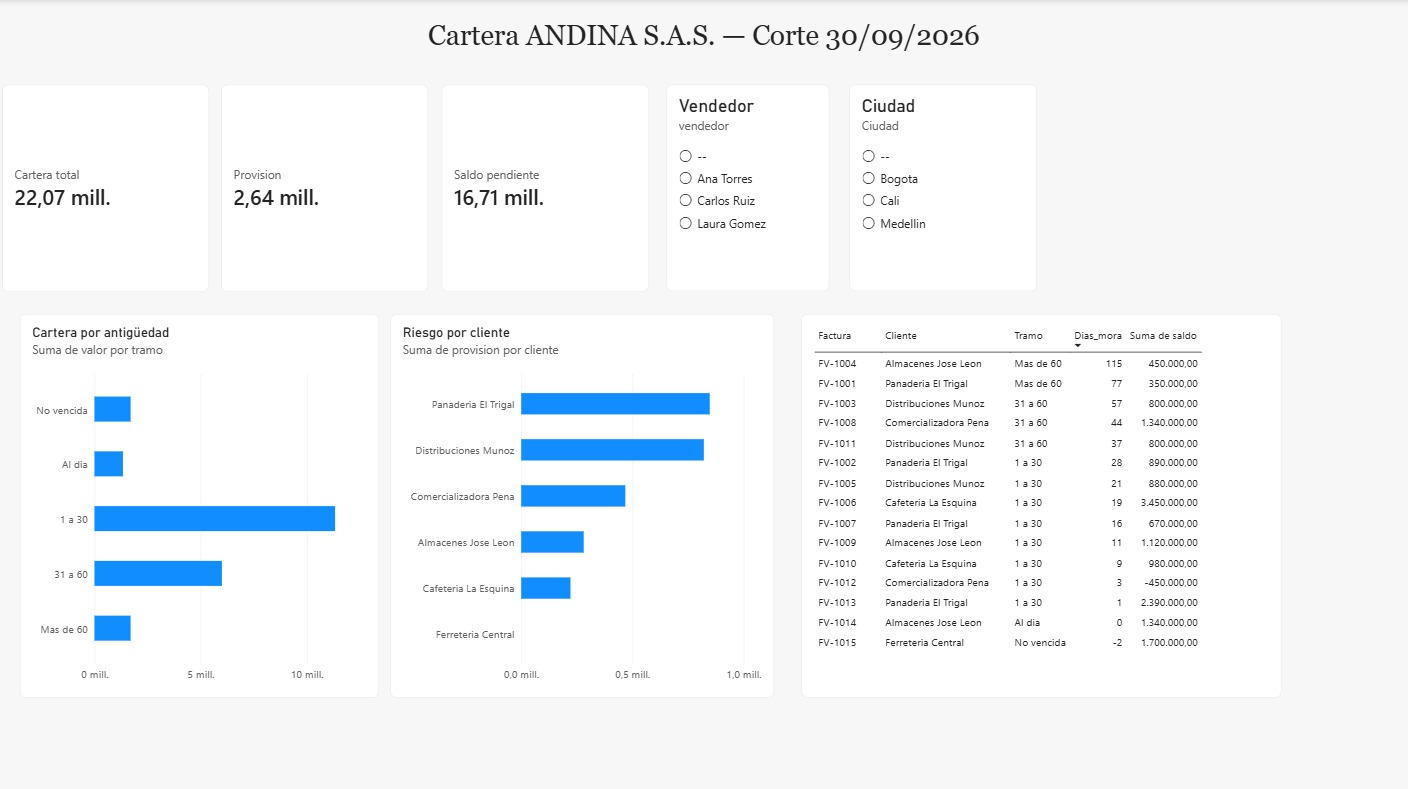

Layout of this report page (visuals, bound fields, positions):
{"tool":"powerbi","page":{"name":"Página 1","canvas":[1920,1080],"ordinal":0},"visuals":[{"type":"cardVisual","fields":{"Data":["Sum(public v_cartera_detalle.valor)"]},"box":[11.8,116.1,280,280],"z":0},{"type":"cardVisual","fields":{"Data":["Sum(public v_cartera_detalle.provision)"]},"box":[307.9,116.1,280,280],"z":1000},{"type":"cardVisual","fields":{"Data":["Sum(public v_cartera_detalle.saldo)"]},"box":[606.3,116.1,280,280],"z":2000},{"type":"clusteredBarChart","title":"Cartera por antigüedad","fields":{"Category":["public v_cartera_detalle.tramo"],"Y":["Sum(public v_cartera_detalle.valor)"]},"box":[35.5,426.3,485.5,518.7],"z":3000},{"type":"clusteredBarChart","title":"Riesgo por cliente","fields":{"Category":["public v_cartera_detalle.cliente"],"Y":["Sum(public v_cartera_detalle.provision)"]},"box":[537.6,426.3,518.7,518.7],"z":4000},{"type":"listSlicer","title":"Ciudad","fields":{"Values":["public v_cartera_detalle.ciudad"]},"box":[1158.2,116.1,253.4,279.5],"z":5000},{"type":"listSlicer","title":"Vendedor","fields":{"Values":["public v_cartera_detalle.vendedor"]},"box":[909.5,116.1,220.3,279.5],"z":6001},{"type":"textbox","box":[587.4,28.4,859.7,63.9],"z":6002},{"type":"tableEx","fields":{"Values":["public v_cartera_detalle.factura","public v_cartera_detalle.cliente","public v_cartera_detalle.tramo","Sum(public v_cartera_detalle.dias_mora)","Sum(public v_cartera_detalle.saldo)"]},"box":[1091.9,426.3,649,518.7],"z":6003}]}

Visuals, with their boxes in screenshot pixels (x1, y1, x2, y2), scaled from the page's 1920x1080 canvas onto the 1408x789 screenshot:
cardVisual - Sum(public v_cartera_detalle.valor): bbox(9, 85, 214, 289)
cardVisual - Sum(public v_cartera_detalle.provision): bbox(226, 85, 431, 289)
cardVisual - Sum(public v_cartera_detalle.saldo): bbox(445, 85, 650, 289)
"Cartera por antigüedad" clusteredBarChart: bbox(26, 311, 382, 690)
"Riesgo por cliente" clusteredBarChart: bbox(394, 311, 775, 690)
"Ciudad" listSlicer: bbox(849, 85, 1035, 289)
"Vendedor" listSlicer: bbox(667, 85, 829, 289)
textbox: bbox(431, 21, 1061, 67)
tableEx - public v_cartera_detalle.factura x public v_cartera_detalle.cliente: bbox(801, 311, 1277, 690)
